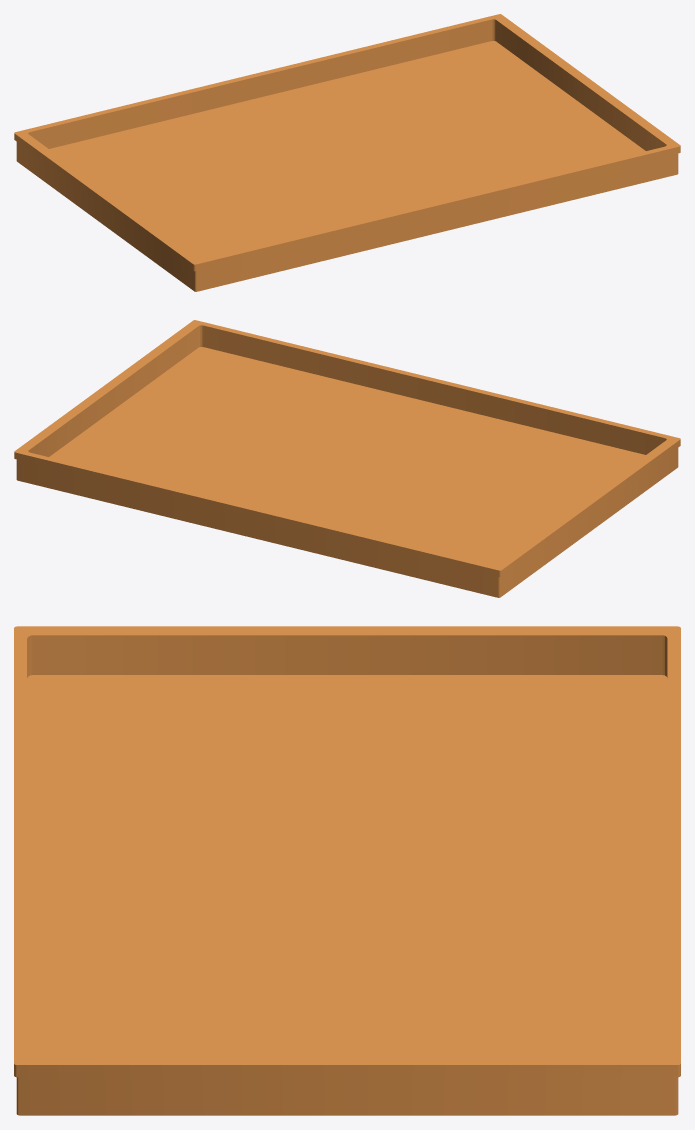
The model's file is tray.fbx.
3 renders of one model, top to bottom at view 1: azimuth 30°, elevation 25°; view 2: azimuth 150°, elevation 25°; view 3: azimuth 270°, elevation 25°, orthographic. The views are drawn at different scales.
Parts seen in each view (by area): view 1: Cube; view 2: Cube; view 3: Cube.
Part boxes in pixels (x1,y1,x2,y2): Cube: (14, 14, 680, 291); Cube: (14, 320, 680, 597); Cube: (14, 626, 680, 1115).
Size of the model in its own units: 809 by 44.81 by 520.
Materials: 1 (1 with a texture image).
